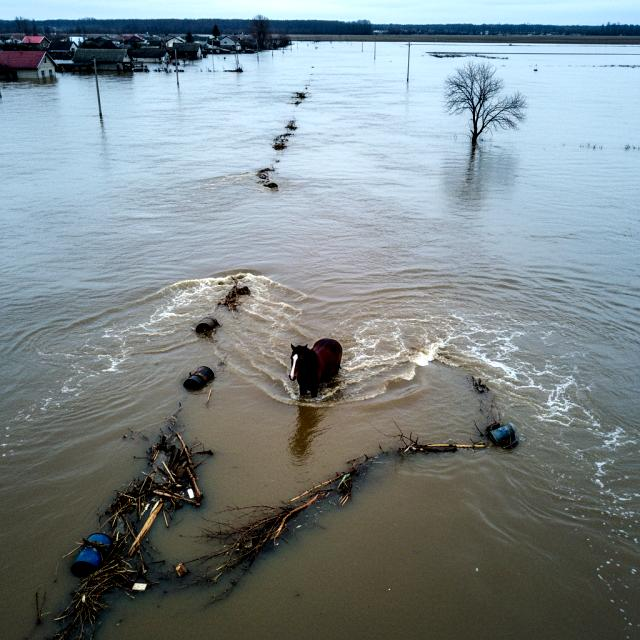horse: (278, 327, 358, 402)
